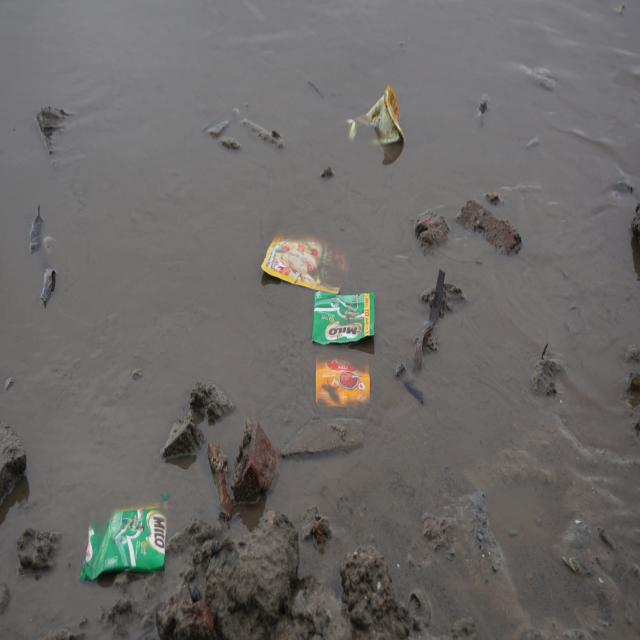Bungkus Makanan: (263, 222, 354, 296), (314, 352, 376, 412)
Bungkus Minuman: (83, 493, 172, 583), (345, 83, 409, 156), (311, 284, 379, 351)
